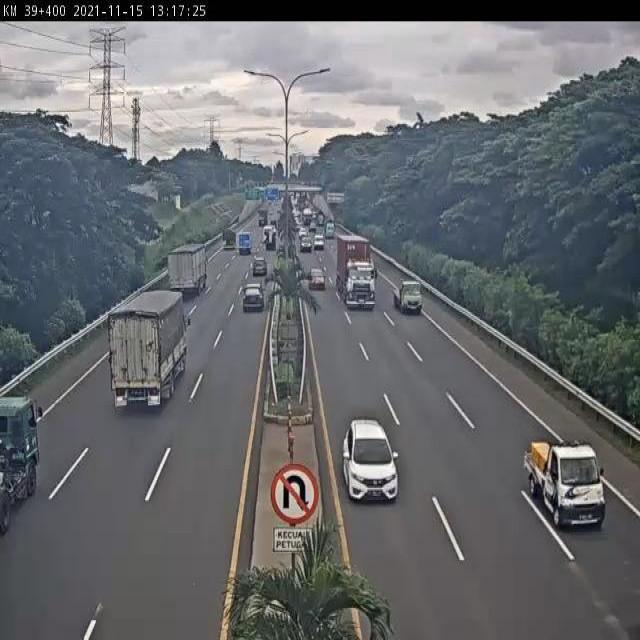big truck: (335, 238, 376, 310)
car: (341, 418, 398, 506), (240, 281, 266, 315), (308, 265, 326, 292), (251, 255, 268, 277)
truck-l-: (0, 392, 40, 537)
truck-m-: (108, 290, 190, 410), (166, 244, 210, 299)
truck-s-: (522, 436, 607, 531), (394, 280, 423, 313)
